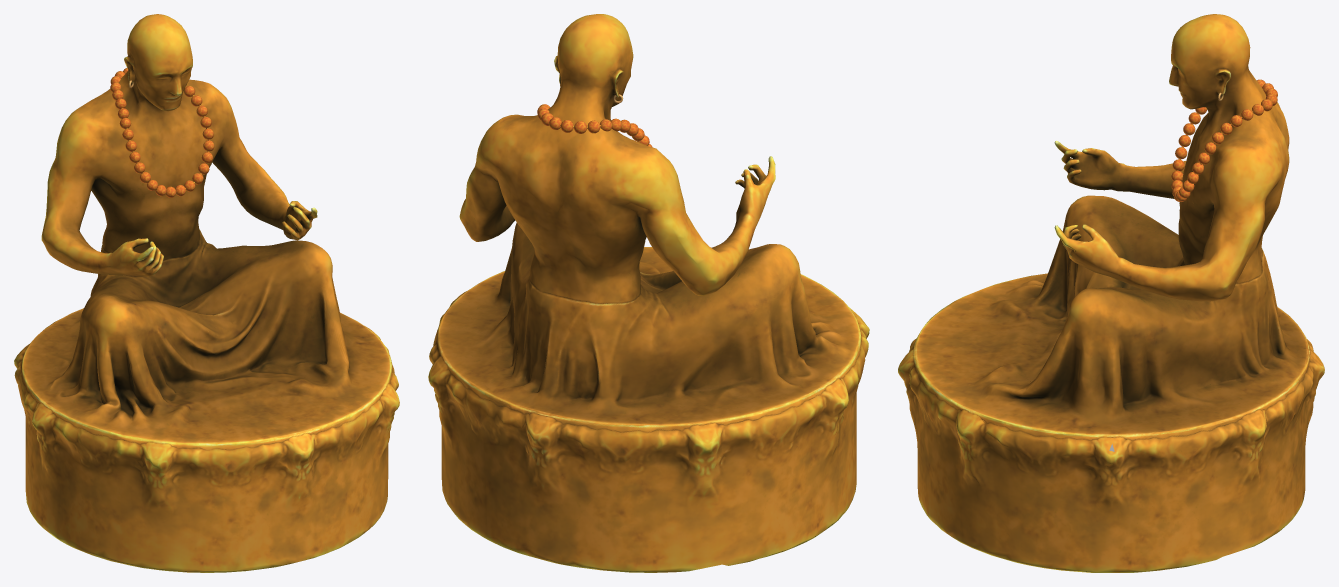
File: SM_statue.fbx
3 renders of one model, left to right at view 1: azimuth 30°, elevation 25°; view 2: azimuth 150°, elevation 25°; view 3: azimuth 270°, elevation 25°, orthographic. The views are drawn at different scales.
Visible parts, largest first — view 1: Buddah; view 2: Buddah; view 3: Buddah.
Boxes of the visible parts, box(x1,y1,x2,y2) form: Buddah: box(14, 14, 399, 572); Buddah: box(428, 14, 869, 572); Buddah: box(898, 14, 1324, 572).
Size of the model in its own units: 501 by 501 by 616.
